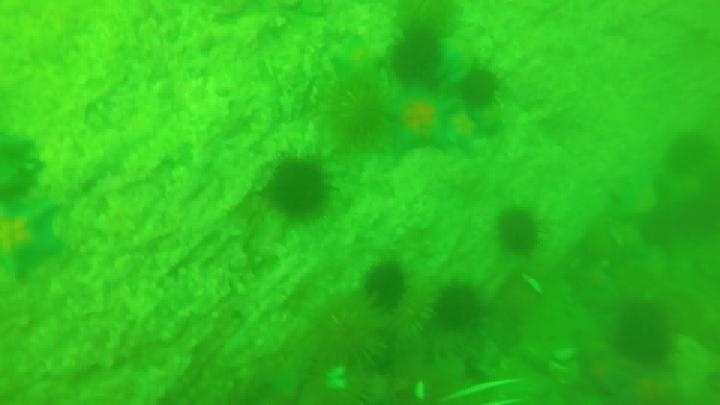echinus: (309, 291, 395, 374), (323, 75, 392, 147), (263, 154, 334, 223), (611, 299, 678, 368), (386, 25, 445, 85), (431, 281, 485, 333), (361, 259, 411, 312), (493, 206, 543, 256), (663, 129, 714, 176), (395, 1, 465, 34), (456, 65, 502, 111), (637, 208, 679, 250)
holothurian: (1, 132, 45, 204)
starfish: (1, 194, 68, 283), (380, 87, 459, 157), (328, 34, 385, 87), (610, 172, 661, 220), (434, 33, 480, 85), (465, 108, 504, 137)
